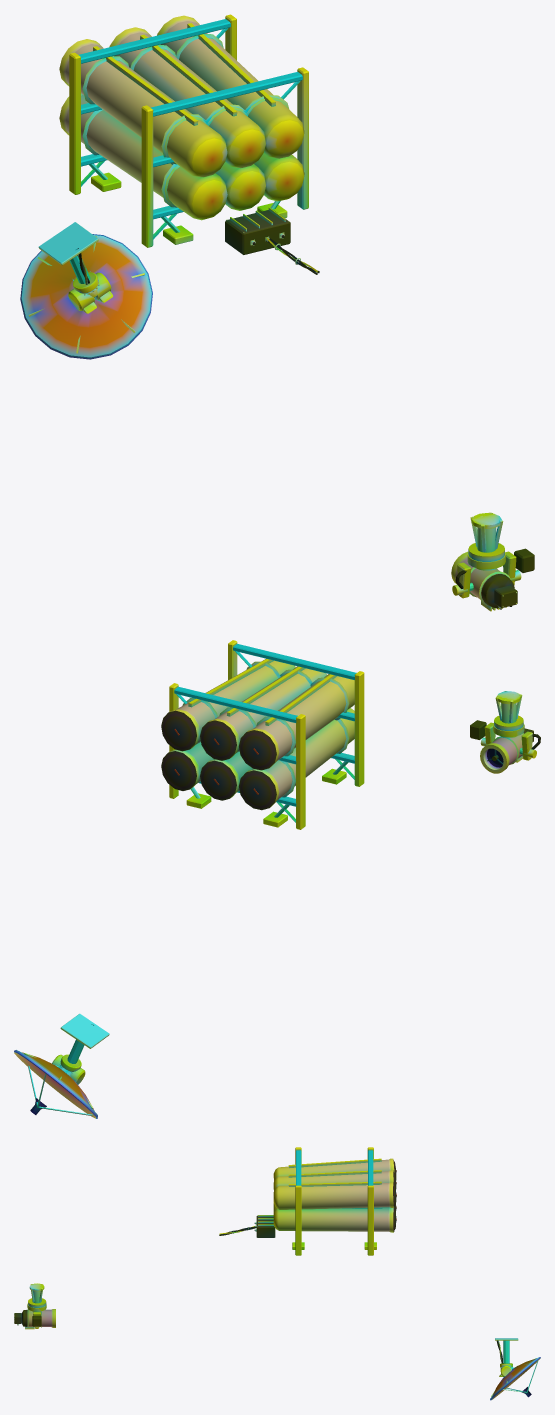
The model's file is kit_skirmisher.glb.
3 views of the same model, one above another, from view 1: azimuth 30°, elevation 25°; view 2: azimuth 150°, elevation 25°; view 3: azimuth 270°, elevation 25° (orthographic). The views are drawn at different scales.
Visible parts, largest first — view 1: KIT_SKIRMISHER_BODY, KKV_3, KKV_4, KKV_5, KKV_0, PD_0_EL, KKV_1, KKV_2, PD_0_AZ; view 2: KIT_SKIRMISHER_BODY, KKV_3, KKV_5, KKV_4, KKV_0, KKV_1, KKV_2, PD_0_EL, PD_0_AZ; view 3: KIT_SKIRMISHER_BODY, KKV_5, KKV_2, KKV_3, KKV_4, PD_0_EL.
Part boxes in pixels (x1,y1,x2,y2): KIT_SKIRMISHER_BODY: (20,14,504,561); KKV_3: (59,39,227,177); KKV_4: (109,27,265,168); KKV_5: (157,15,304,158); KKV_0: (59,93,227,220); PD_0_EL: (451,551,517,611); KKV_1: (215,162,265,210); KKV_2: (254,153,304,201); PD_0_AZ: (452,548,534,598); KIT_SKIRMISHER_BODY: (14,640,523,1118); KKV_3: (239,674,354,770); KKV_5: (161,658,295,751); KKV_4: (200,666,326,760); KKV_0: (239,708,354,810); KKV_1: (200,751,252,800); KKV_2: (161,742,213,790); PD_0_EL: (480,728,533,773); PD_0_AZ: (470,720,540,760); KIT_SKIRMISHER_BODY: (28,1147,540,1400); KKV_5: (273,1181,396,1209); KKV_2: (273,1207,396,1232); KKV_3: (273,1158,396,1181); KKV_4: (273,1170,396,1190); PD_0_EL: (14,1309,55,1329).
Size of the model in its own units: 1.59 by 3.06 by 6.79.
